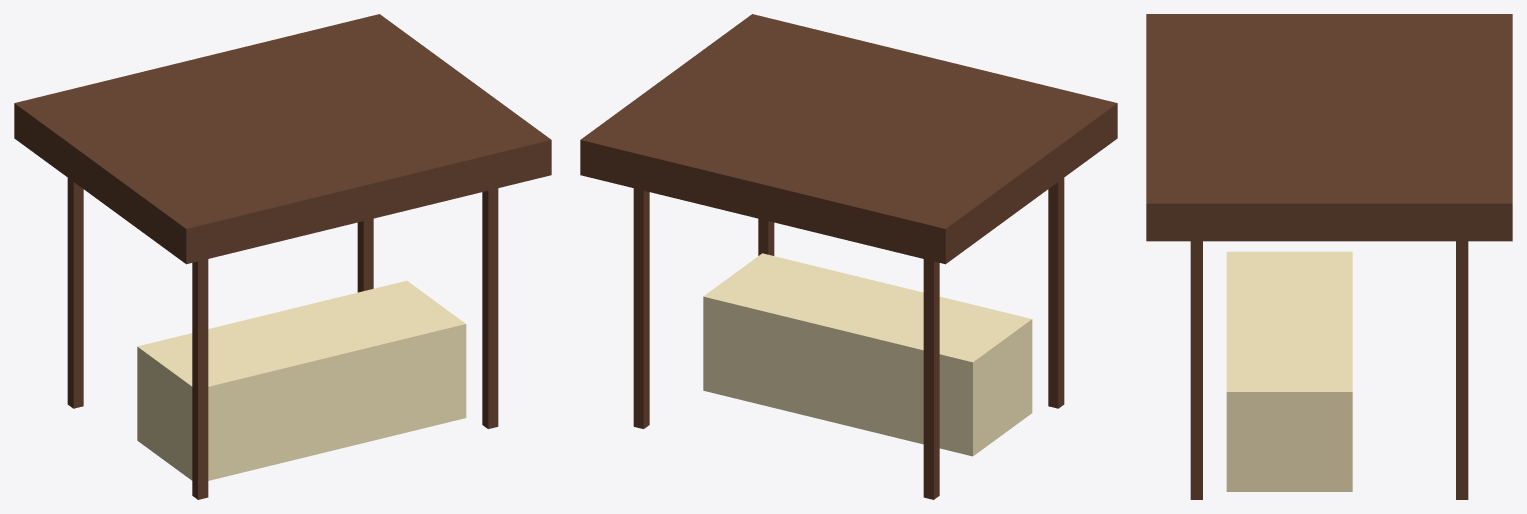
Rendered from prop_warung.fbx.
3 views of the same model, side by side, from view 1: azimuth 30°, elevation 25°; view 2: azimuth 150°, elevation 25°; view 3: azimuth 270°, elevation 25° (orthographic). The views are drawn at different scales.
Visible parts, largest first — view 1: prop_warung; view 2: prop_warung; view 3: prop_warung.
Part boxes in pixels (left/top/right/bottom): prop_warung: left=14, top=14, right=551, bottom=499; prop_warung: left=580, top=14, right=1117, bottom=499; prop_warung: left=1146, top=14, right=1512, bottom=499.
Size of the model in its own units: 325 by 250 by 265.
Materials: 1 (1 with a texture image).
